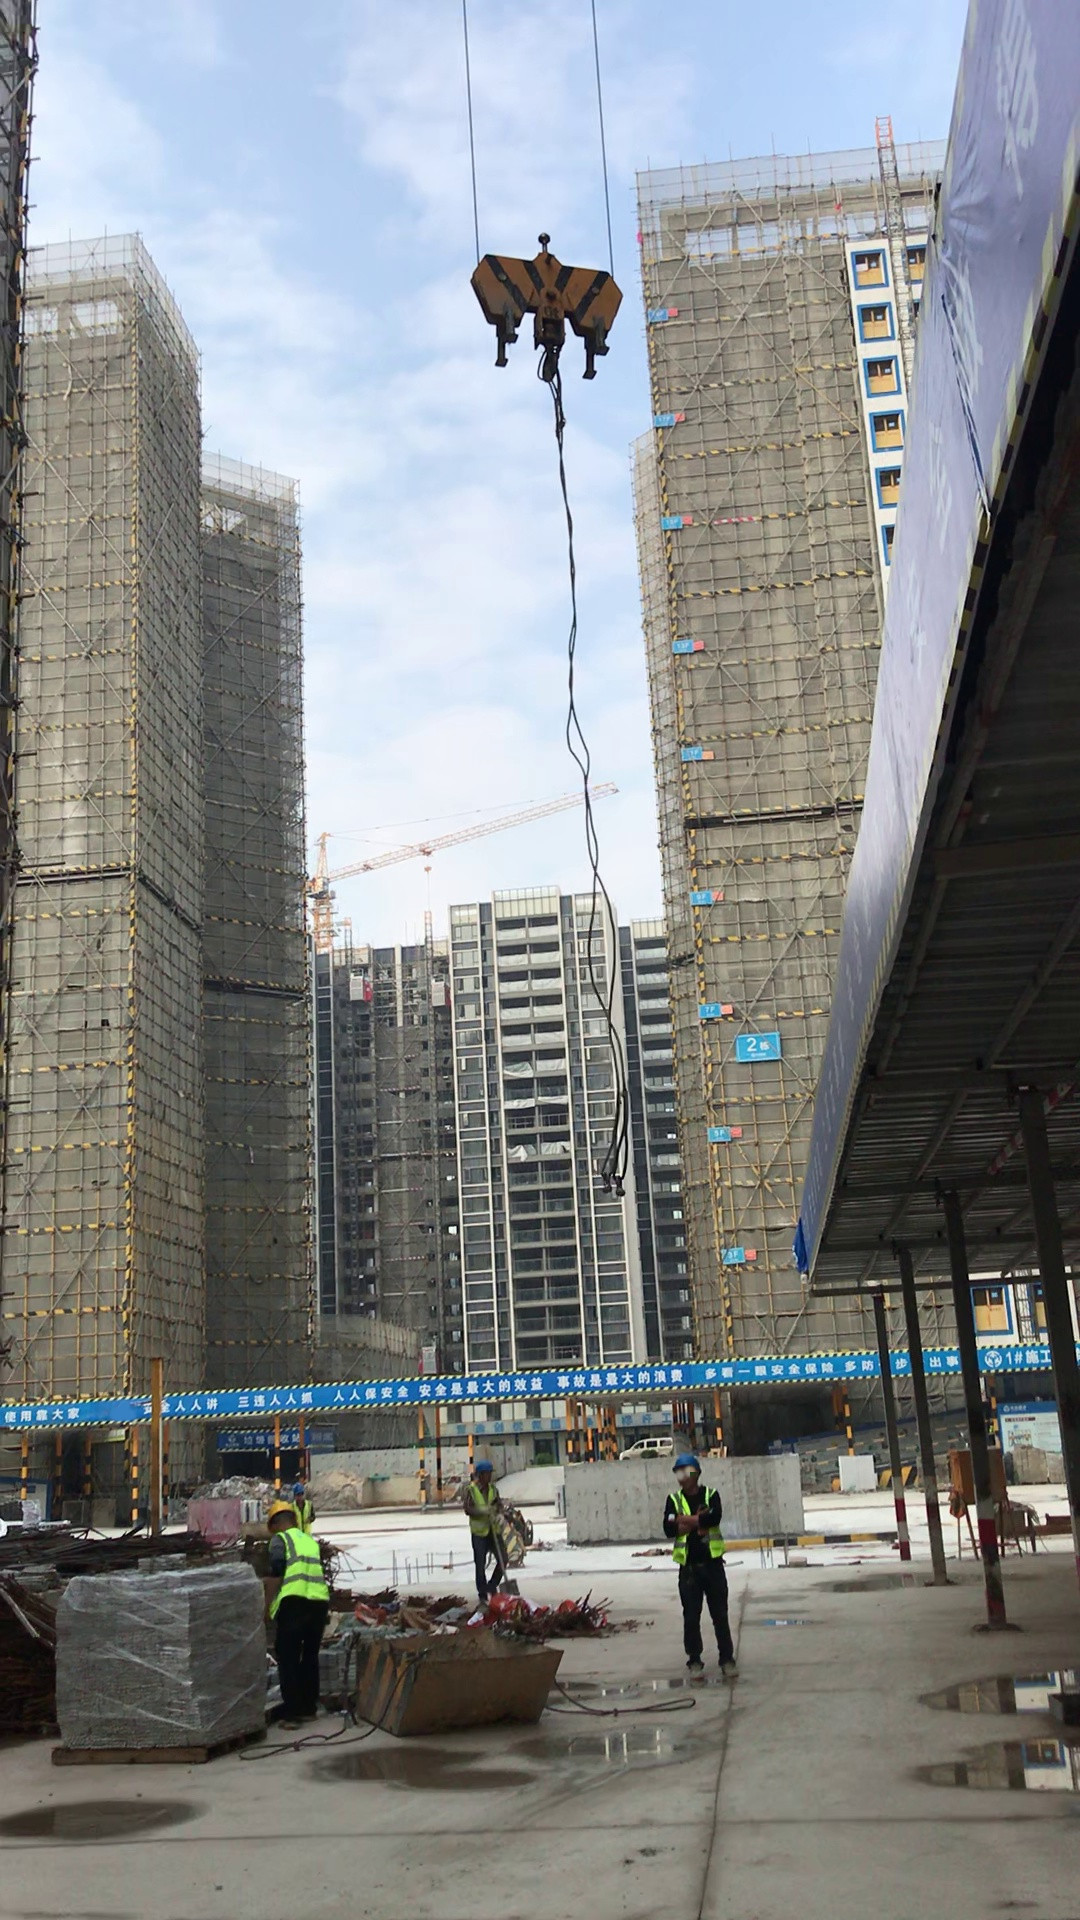brick: (834, 1445, 884, 1494)
ebox: (936, 1447, 1022, 1564)
helmet: (263, 1501, 298, 1527), (670, 1454, 704, 1471), (472, 1460, 499, 1473), (292, 1483, 304, 1495)
hook: (468, 222, 632, 386)
hopper: (340, 1626, 570, 1733)
person: (641, 1453, 745, 1672), (255, 1501, 338, 1718), (452, 1458, 523, 1599), (286, 1482, 324, 1539)
slogan: (799, 1, 1080, 1276), (3, 1343, 1080, 1436)
vest: (277, 1533, 328, 1608), (669, 1491, 724, 1560), (465, 1487, 504, 1539), (293, 1501, 313, 1529)
